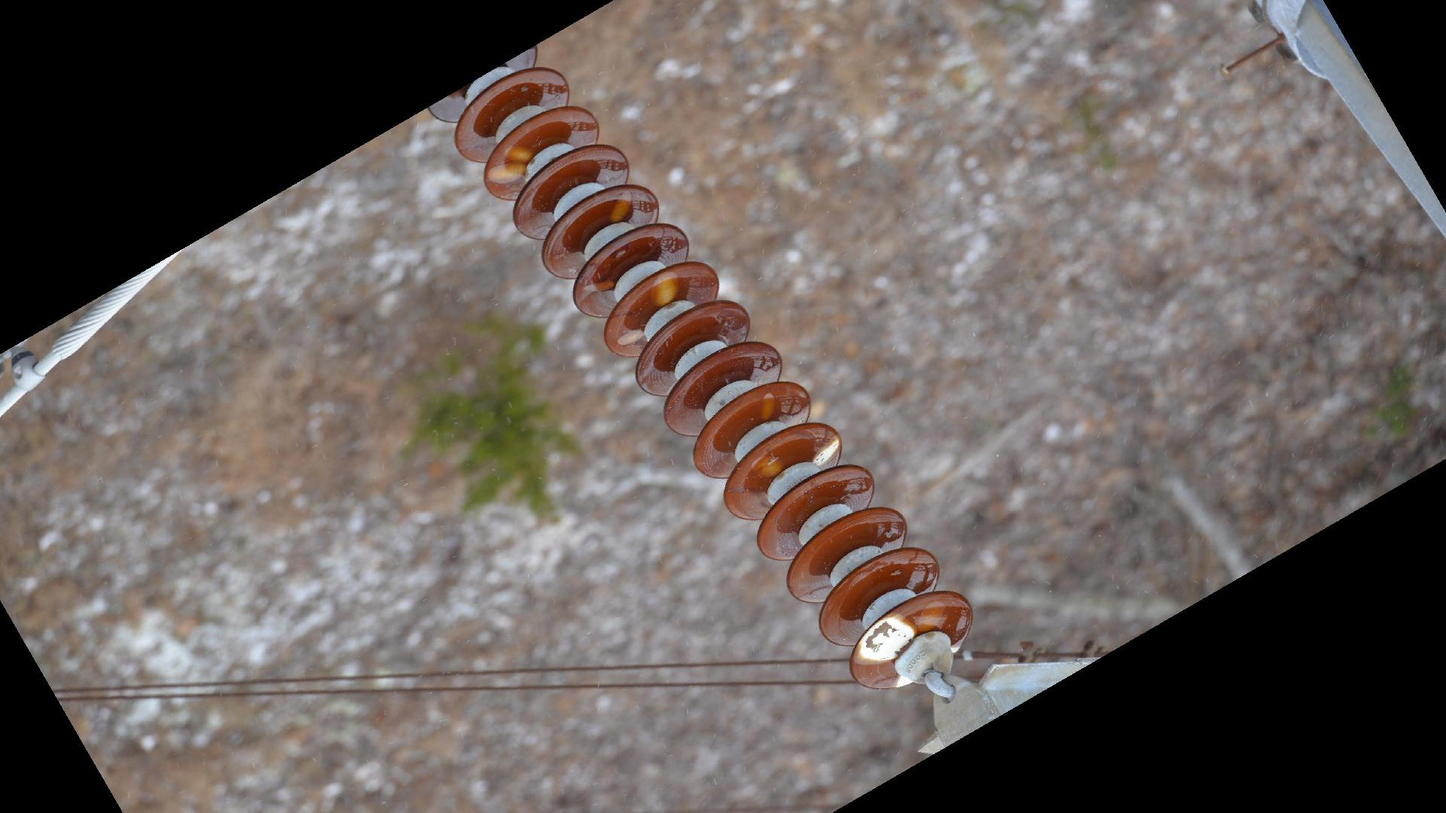insulator: (417, 38, 976, 698)
insulator_flashover: (856, 612, 916, 664), (487, 144, 535, 186), (649, 269, 681, 309), (917, 598, 947, 634), (811, 437, 842, 467), (609, 188, 634, 224), (751, 454, 784, 480)
